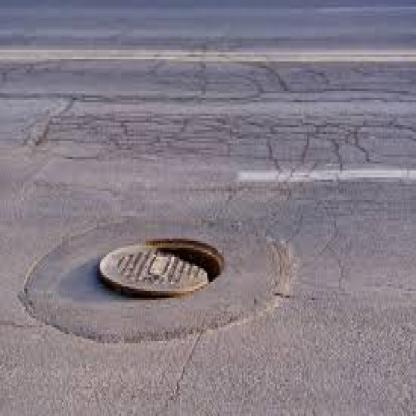open manhole-not overflowing-: (90, 227, 234, 314)
